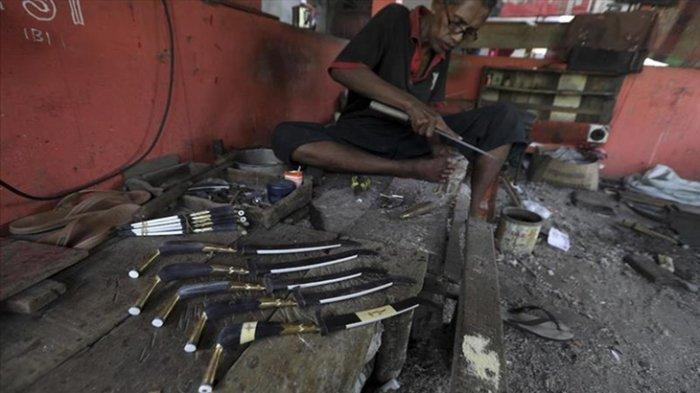facao: (195, 308, 470, 393), (128, 204, 348, 283), (374, 93, 548, 180), (138, 252, 385, 312), (185, 279, 411, 342), (110, 182, 280, 247)
